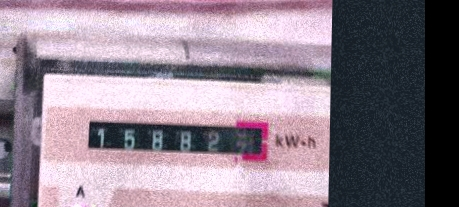1: (94, 124, 108, 147)
2: (205, 129, 221, 153)
5: (122, 125, 136, 150)
7: (235, 136, 247, 153)
8: (178, 128, 192, 152), (150, 127, 163, 151)
screen: (78, 110, 277, 169)
